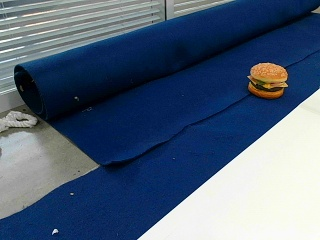burger: (247, 61, 288, 98)
